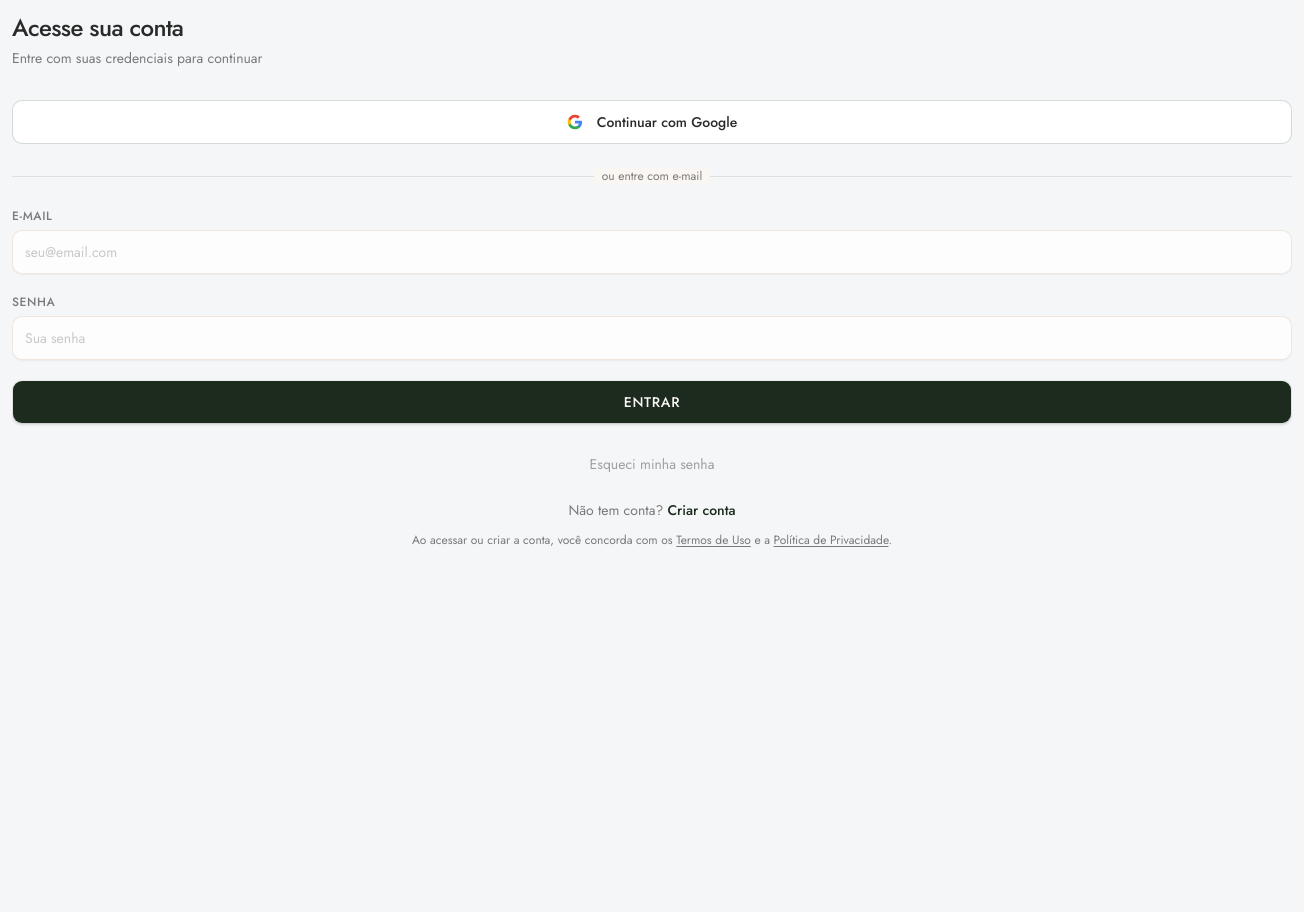
it: LoginForm analytics › reports a refused password as invalid_credentials, without the address
Type "ana@example.com" into the field with test id "login-email".
click(652, 252); type("ana@example.com")  # box 12,230 -> 1292,274
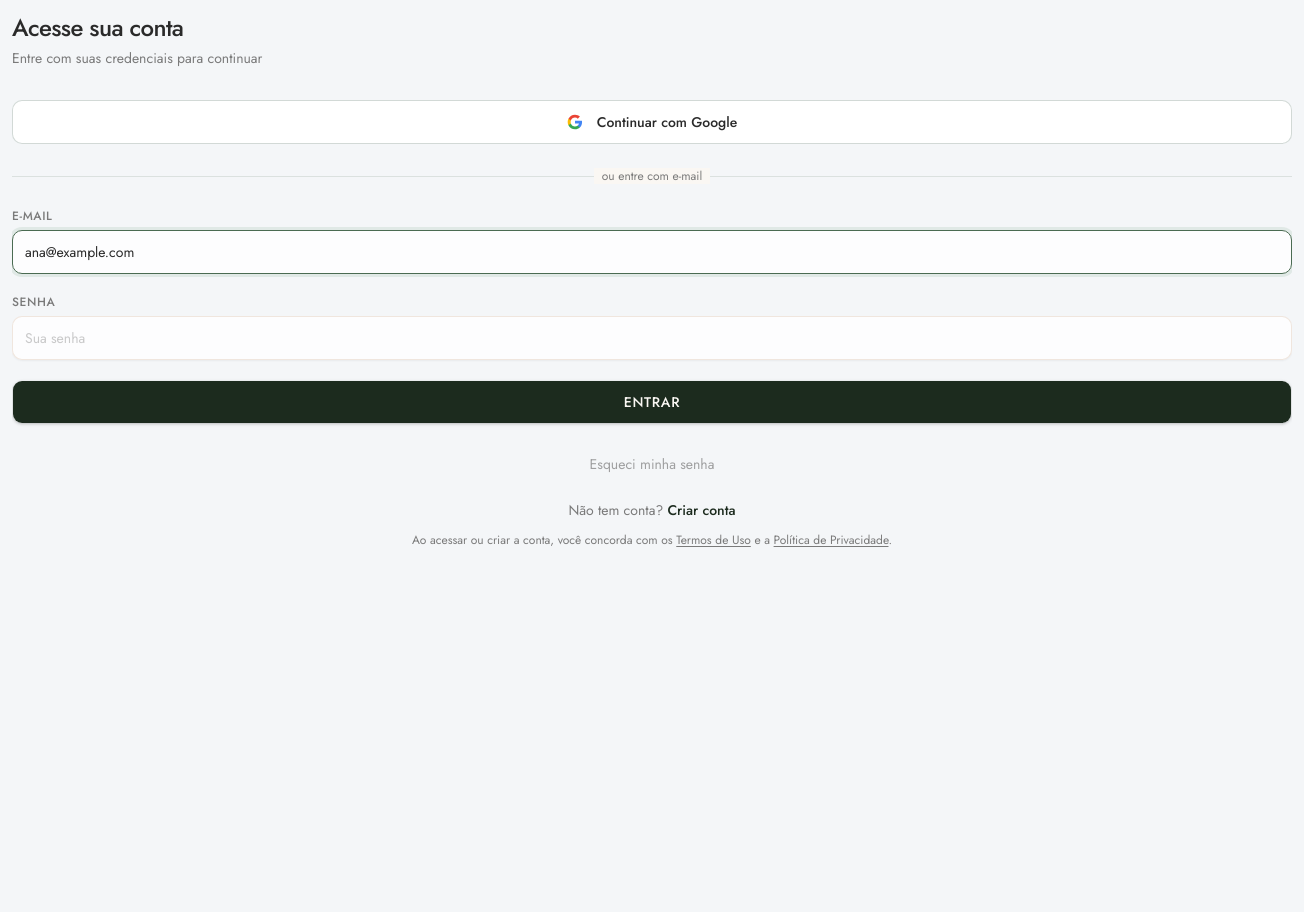
Type "wrong-password" into the password field with test id "login-password".
click(652, 338); type("wrong-password")  # box 12,316 -> 1292,360
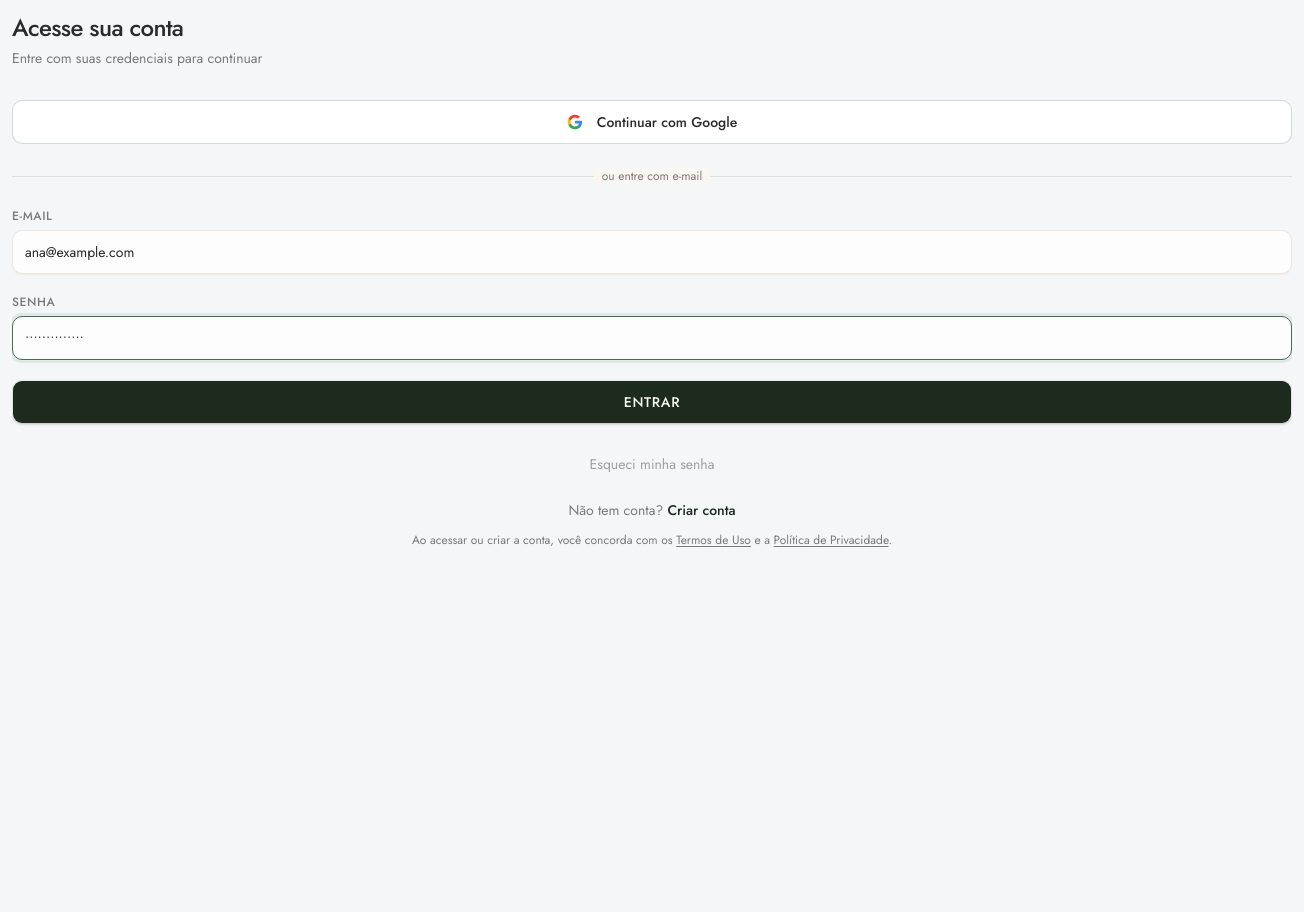
Click the button with test id "login-submit".
click(652, 402)  # box 12,380 -> 1292,424
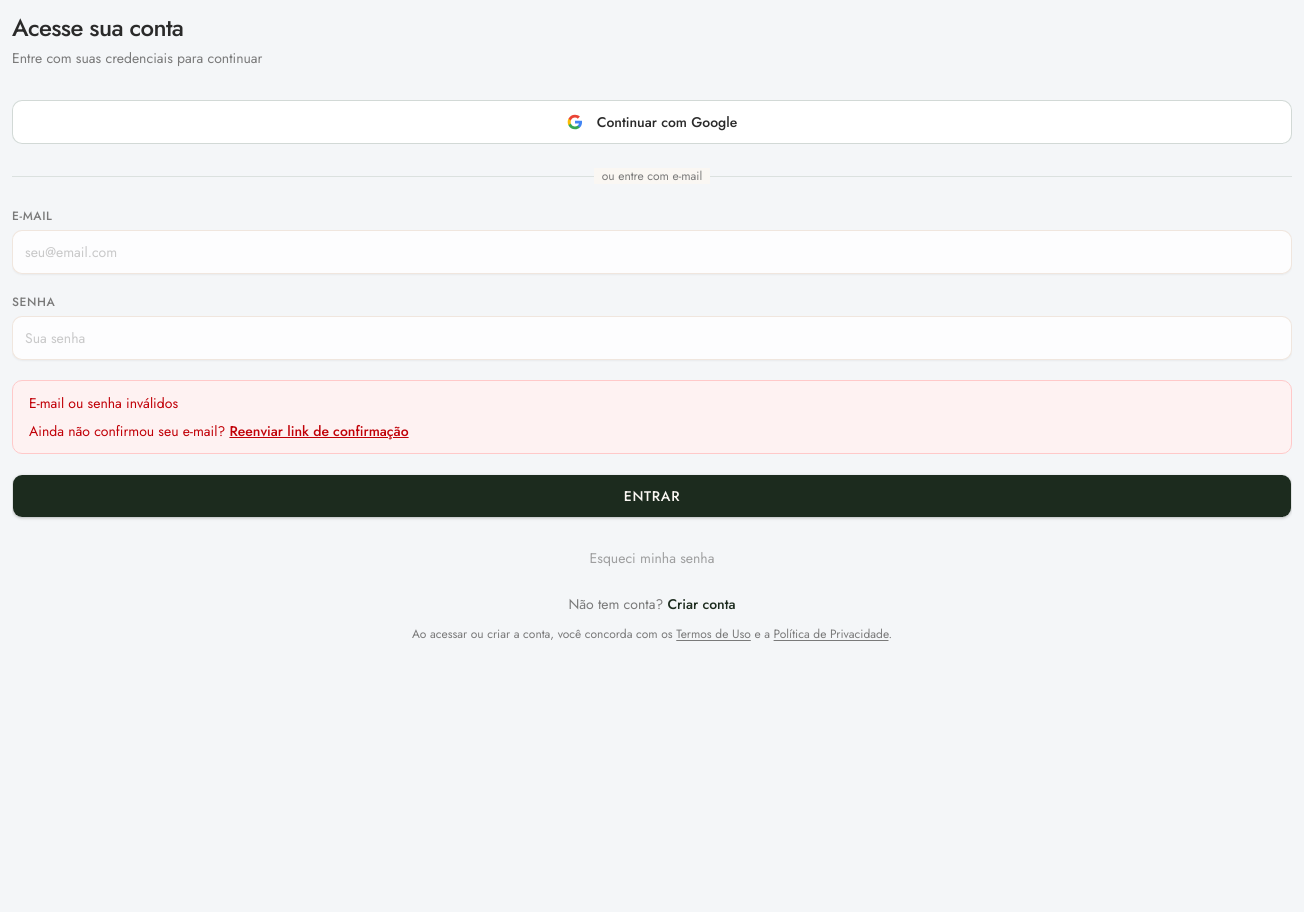
Now the text "E-mail ou senha inválidos" is shown, box 29,393 -> 178,413
